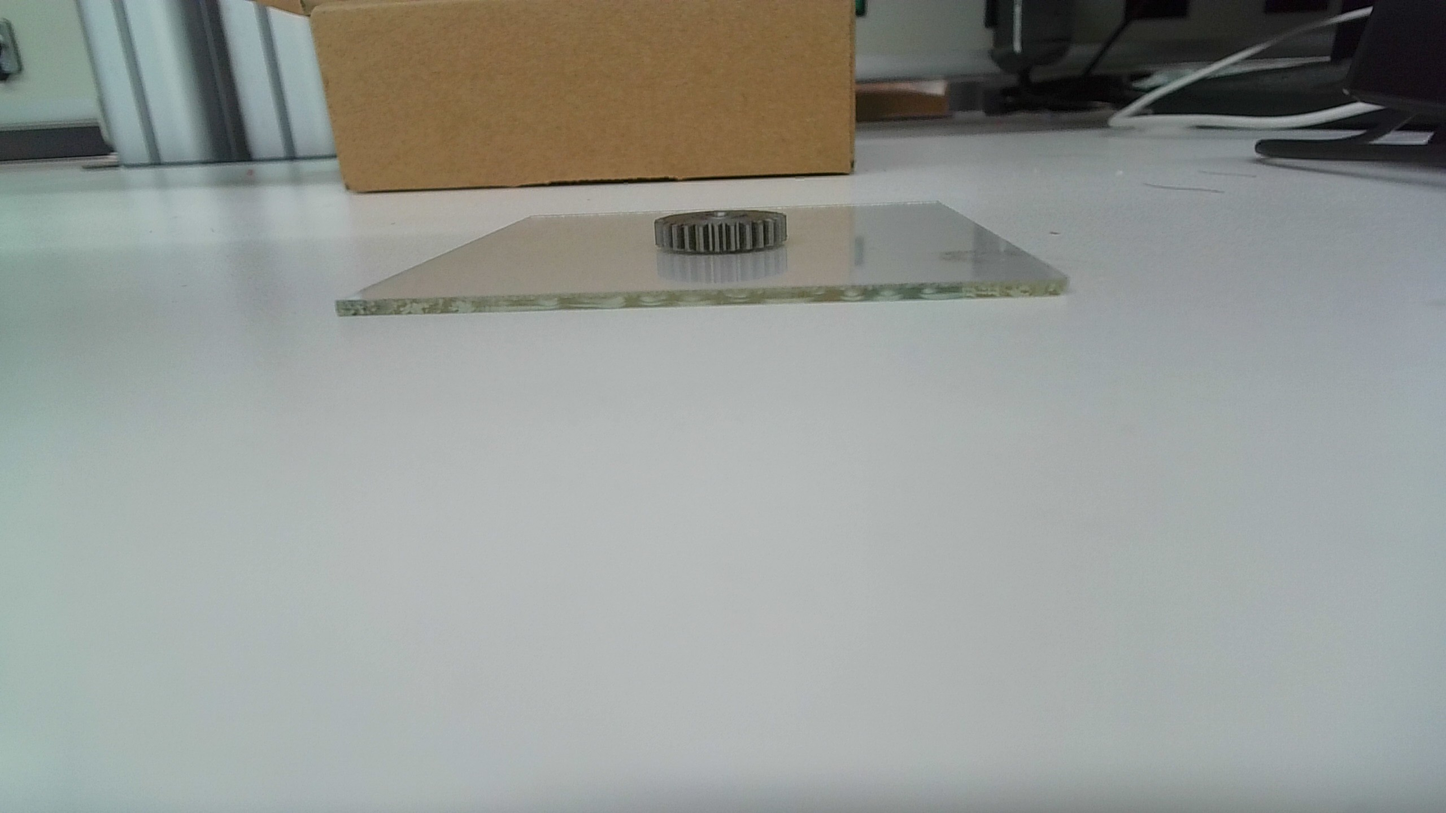gear: (651, 209, 792, 255)
